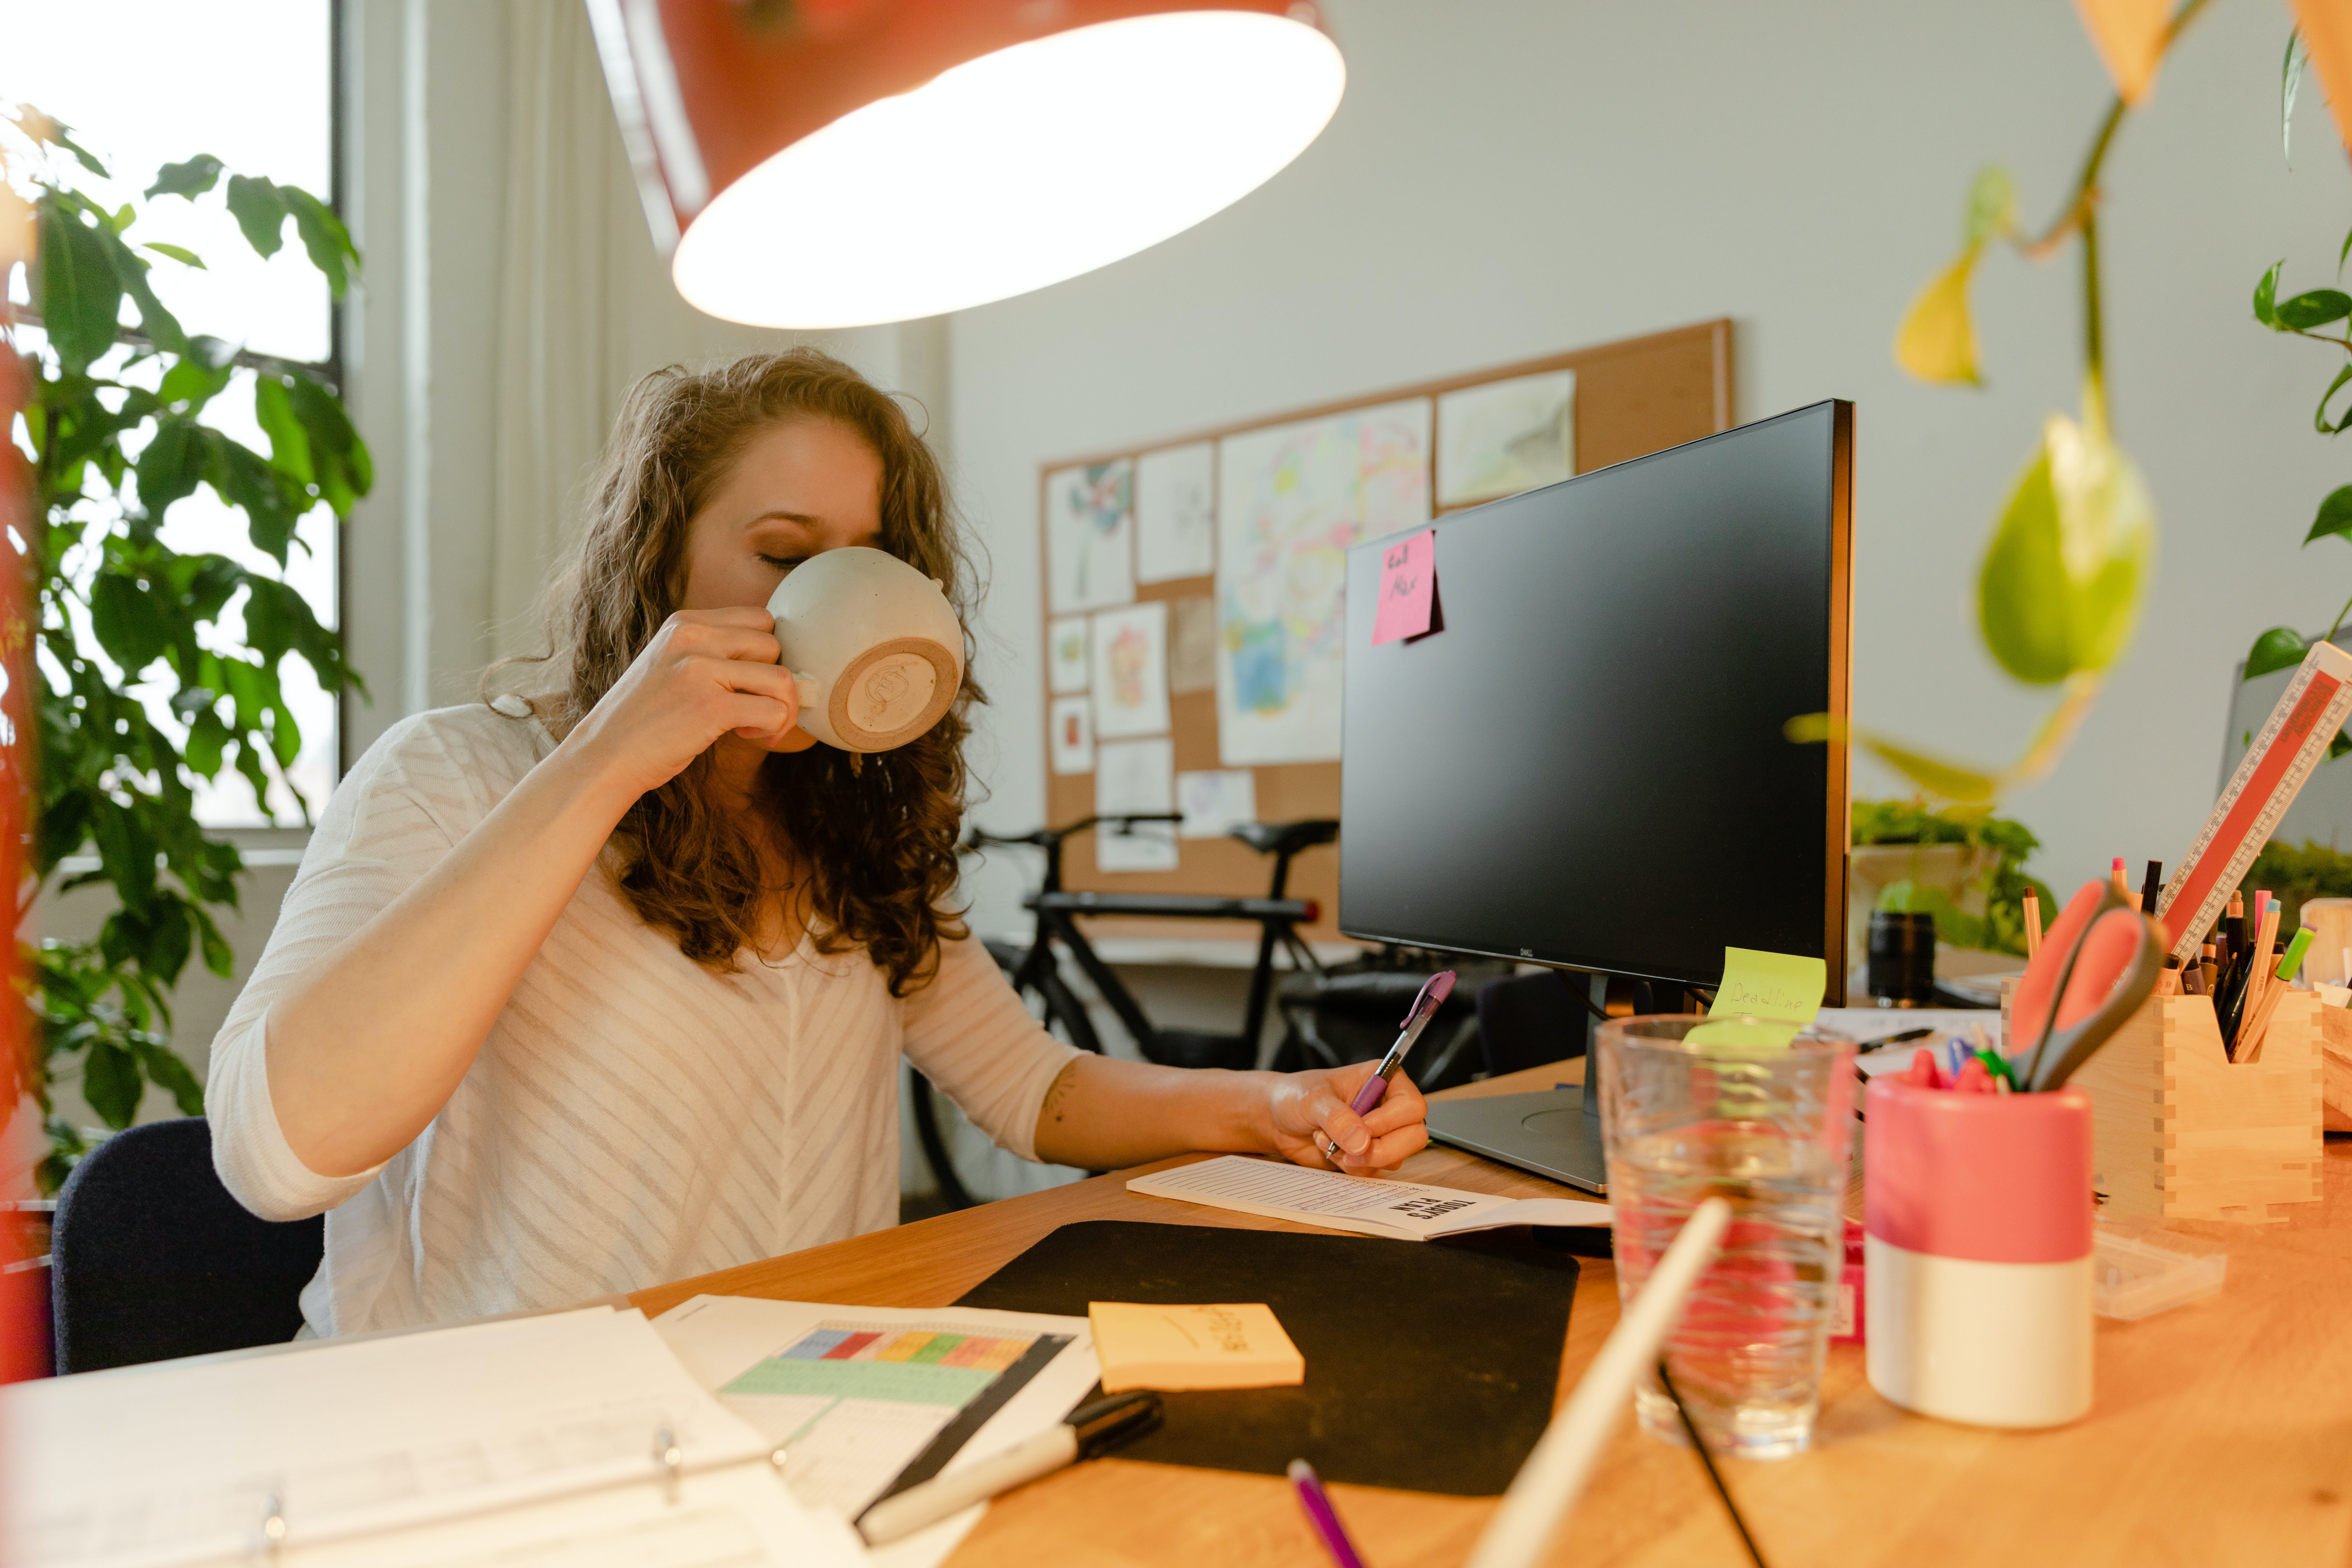face: (666, 420, 888, 765)
hands: (599, 601, 815, 778), (1268, 1054, 1432, 1176)
head: (572, 345, 982, 776)
person: (224, 347, 1443, 1253)
tools: (2009, 893, 2167, 1074)
